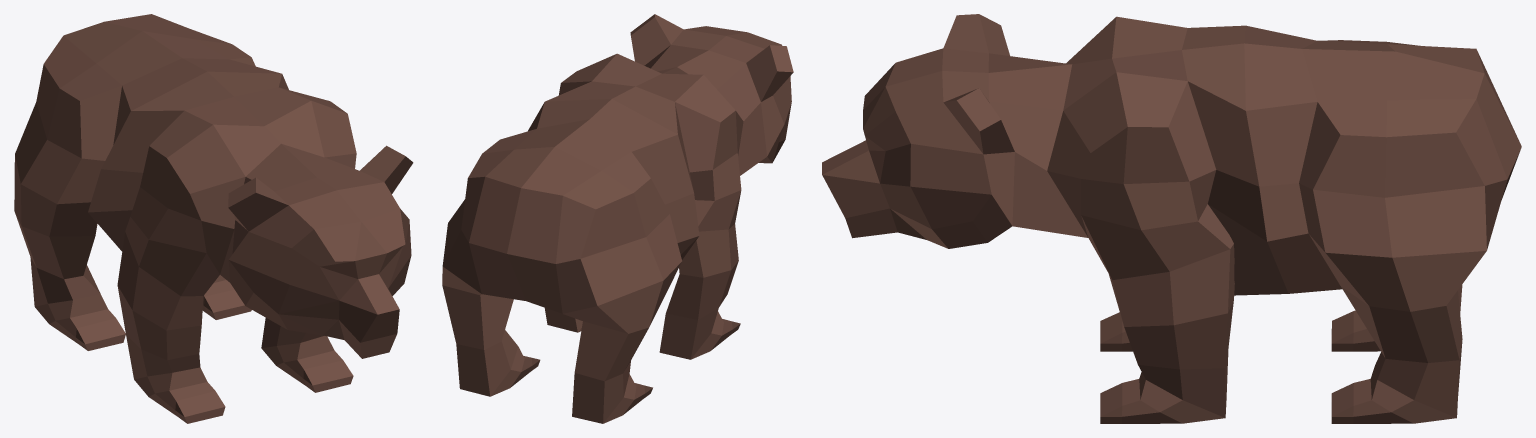
Rendered from animal_008.glb.
3 views of the same model, side by side, from view 1: azimuth 30°, elevation 25°; view 2: azimuth 150°, elevation 25°; view 3: azimuth 270°, elevation 25° (orthographic). The views are drawn at different scales.
Parts seen in each view (by area): view 1: animal_008; view 2: animal_008; view 3: animal_008.
Part boxes in pixels (<box>): animal_008: <box>14,14,413,423</box>; animal_008: <box>442,14,793,423</box>; animal_008: <box>822,14,1521,423</box>.
Bounding box in the file's own units: 1.37 × 1.53 × 2.9.
Materials: 1 (1 with a texture image).
